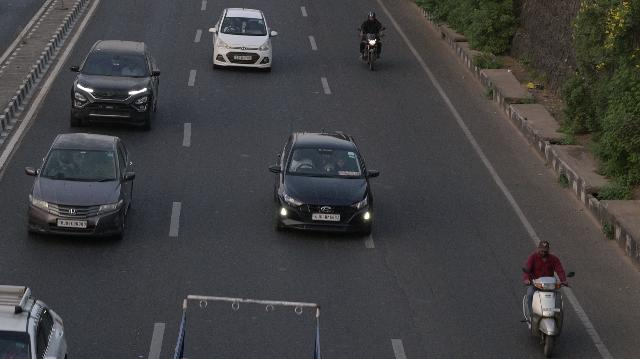With Helmet: (366, 10, 376, 22)
Without Helmet: (537, 242, 551, 258)
